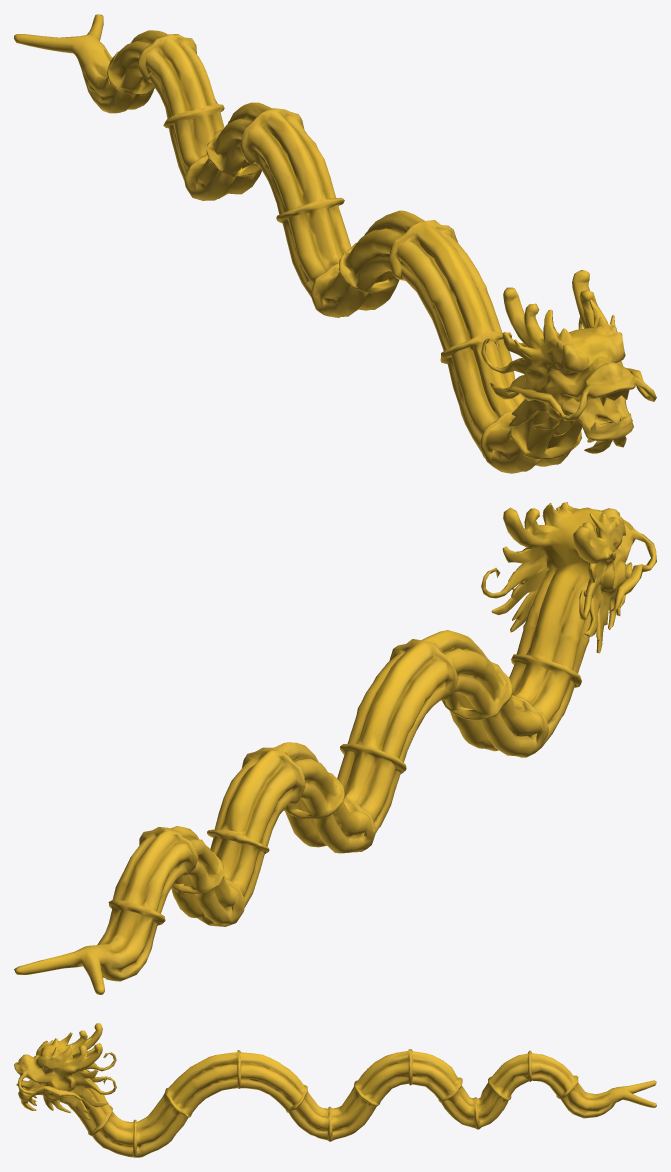
Rendered from dragon.glb.
3 views of the same model, one above another, from view 1: azimuth 30°, elevation 25°; view 2: azimuth 150°, elevation 25°; view 3: azimuth 270°, elevation 25° (orthographic). The views are drawn at different scales.
Visible parts, largest first — view 1: tripo_node_eec96765-e23f-4ad4-87e4-eaba012271d2; view 2: tripo_node_eec96765-e23f-4ad4-87e4-eaba012271d2; view 3: tripo_node_eec96765-e23f-4ad4-87e4-eaba012271d2.
Part boxes in pixels (left/top/right/bottom): tripo_node_eec96765-e23f-4ad4-87e4-eaba012271d2: left=14, top=14, right=656, bottom=473; tripo_node_eec96765-e23f-4ad4-87e4-eaba012271d2: left=14, top=502, right=656, bottom=994; tripo_node_eec96765-e23f-4ad4-87e4-eaba012271d2: left=14, top=1023, right=656, bottom=1157.
Bounding box in the file's own units: 0.1133 × 0.2085 × 1.
1 material, 1 textured.
